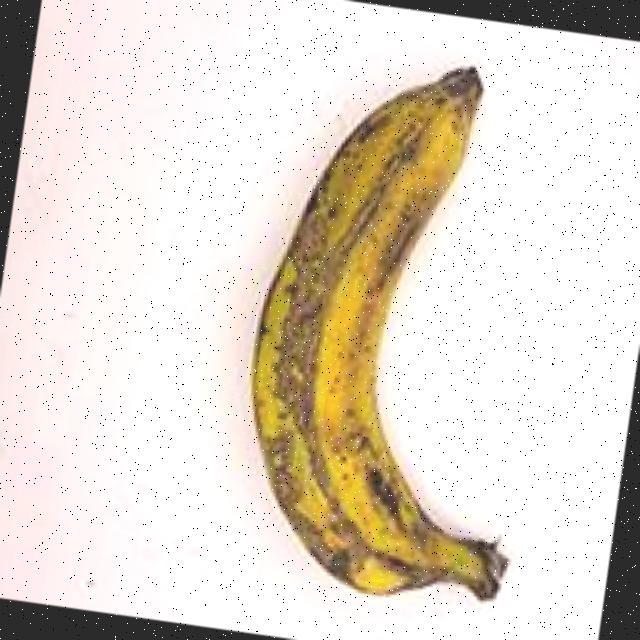Overripe: (169, 1, 631, 640)
